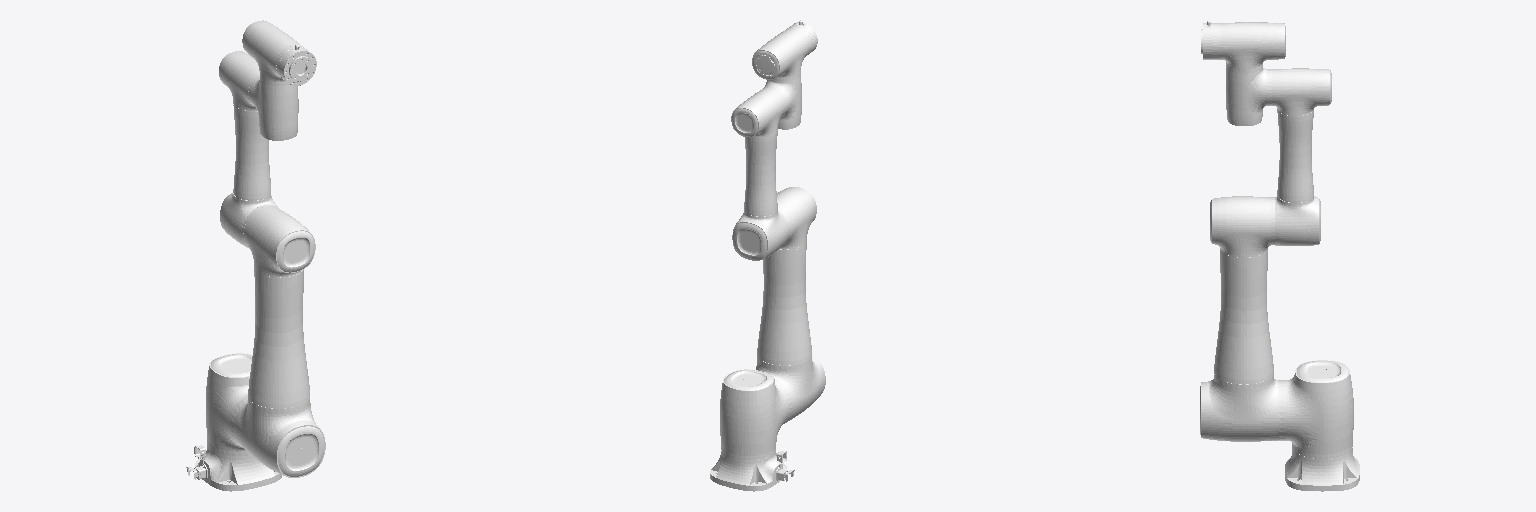
URDF robot description (cr16_robot):
<?xml version="1.0" encoding="utf-8"?>
<!-- This URDF was automatically created by SolidWorks to URDF Exporter! Originally created by [author] ([email redacted]) 
     Commit Version: 1.6.0-1-g15f4949  Build Version: 1.6.7594.29634
     For more information, please see http://wiki.ros.org/sw_urdf_exporter -->
<robot
  name="cr16_robot">
  <link name="dummy_link"/>
  <link
    name="base_link">
    <inertial>
      <origin
        xyz="-0.0017434 -4.7187E-06 0.032774"
        rpy="0 0 0" />
      <mass
        value="1.8265" />
      <inertia
        ixx="0.0041731"
        ixy="5.9313E-07"
        ixz="2.5199E-05"
        iyy="0.0043128"
        iyz="-5.4485E-07"
        izz="0.0067702" />
    </inertial>
    <visual>
      <origin
        xyz="0 0 0"
        rpy="0 0 0" />
      <geometry>
        <mesh
          filename="package://dobot_description/meshes/cr16/base_link.STL"  />
      </geometry>
      <material
        name="">
        <color
          rgba="1 1 1 1" />
      </material>
    </visual>
    <collision>
      <origin
        xyz="0 0 0"
        rpy="0 0 0" />
      <geometry>
        <mesh
          filename="package://dobot_description/meshes/cr16/base_link.STL"/>
      </geometry>
    </collision>
  </link>
     <joint name="dummy_joint" type="fixed">
      <parent link="dummy_link" />
      <child  link="base_link" />
    </joint>
  <link
    name="Link1">
    <inertial>
      <origin
        xyz="-1.6641E-06 -0.010819 0.0028389"
        rpy="0 0 0" />
      <mass
        value="4.1649" />
      <inertia
        ixx="0.020714"
        ixy="-1.9337E-07"
        ixz="1.6016E-07"
        iyy="0.018824"
        iyz="-9.6732E-05"
        izz="0.014575" />
    </inertial>
    <visual>
      <origin
        xyz="0 0 0"
        rpy="0 0 0" />
      <geometry>
        <mesh
          filename="package://dobot_description/meshes/cr16/Link1.STL" />
      </geometry>
      <material
        name="">
        <color
          rgba="1 1 1 1" />
      </material>
    </visual>
    <collision>
      <origin
        xyz="0 0 0"
        rpy="0 0 0" />
      <geometry>
        <mesh
          filename="package://dobot_description/meshes/cr16/Link1.STL" />
      </geometry>
    </collision>
  </link>
  <joint
    name="joint1"
    type="revolute">
    <origin
      xyz="0 0 0.1765"
      rpy="0 0 0" />
    <parent
      link="base_link" />
    <child
      link="Link1" />
    <axis
      xyz="0 0 1" />
    <limit
      lower="-3.14"
      upper="3.14"
      effort="0"
      velocity="0" />
  </joint>
  <link
    name="Link2">
    <inertial>
      <origin
        xyz="-0.20512 -3.1886E-08 0.19538"
        rpy="0 0 0" />
      <mass
        value="10.222" />
      <inertia
        ixx="0.031498"
        ixy="-8.7366E-08"
        ixz="-0.00021952"
        iyy="0.06945"
        iyz="-1.4472E-07"
        izz="0.062387" />
    </inertial>
    <visual>
      <origin
        xyz="0 0 0"
        rpy="0 0 0" />
      <geometry>
        <mesh
          filename="package://dobot_description/meshes/cr16/Link2.STL"  />
      </geometry>
      <material
        name="">
        <color
          rgba="1 1 1 1" />
      </material>
    </visual>
    <collision>
      <origin
        xyz="0 0 0"
        rpy="0 0 0" />
      <geometry>
        <mesh
          filename="package://dobot_description/meshes/cr16/Link2.STL" />
      </geometry>
    </collision>
  </link>
  <joint
    name="joint2"
    type="revolute">
    <origin
      xyz="0 0 0"
      rpy="1.5708 1.5708 0" />
    <parent
      link="Link1" />
    <child
      link="Link2" />
    <axis
      xyz="0 0 1" />
    <limit
      lower="-3.14"
      upper="3.14"
      effort="0"
      velocity="0" />
  </joint>
  <link
    name="Link3">
    <inertial>
      <origin
        xyz="-0.170200593728399 2.11088122753169E-07 0.0611734146139162"
        rpy="0 0 0" />
      <mass
        value="3.75359417381617" />
      <inertia
        ixx="0.00603810286245228"
        ixy="-6.36208384653473E-08"
        ixz="-5.72052164068317E-05"
        iyy="0.0119444184036258"
        iyz="6.47950646898604E-08"
        izz="0.0107481567947292" />
    </inertial>
    <visual>
      <origin
        xyz="0 0 0"
        rpy="0 0 0" />
      <geometry>
        <mesh
          filename="package://dobot_description/meshes/cr16/Link3.STL" />
      </geometry>
      <material
        name="">
        <color
          rgba="1 1 1 1" />
      </material>
    </visual>
    <collision>
      <origin
        xyz="0 0 0"
        rpy="0 0 0" />
      <geometry>
        <mesh
          filename="package://dobot_description/meshes/cr16/Link3.STL" />
      </geometry>
    </collision>
  </link>
  <joint
    name="joint3"
    type="revolute">
    <origin
      xyz="-0.512 0 0"
      rpy="0 0 0" />
    <parent
      link="Link2" />
    <child
      link="Link3" />
    <axis
      xyz="0 0 1" />
    <limit
      lower="-2.86"
      upper="2.86"
      effort="0"
      velocity="0" />
  </joint>
  <link
    name="Link4">
    <inertial>
      <origin
        xyz="-2.51136414011728E-07 0.00798725336224493 -0.00589074250591318"
        rpy="0 0 0" />
      <mass
        value="1.16884301529359" />
      <inertia
        ixx="0.00292614958206067"
        ixy="8.13393336360205E-09"
        ixz="-8.19039910228418E-09"
        iyy="0.00150053008994198"
        iyz="-5.44925430410846E-05"
        izz="0.00273274970331529" />
    </inertial>
    <visual>
      <origin
        xyz="0 0 0"
        rpy="0 0 0" />
      <geometry>
        <mesh
          filename="package://dobot_description/meshes/cr16/Link4.STL" />
      </geometry>
      <material
        name="">
        <color
          rgba="1 1 1 1" />
      </material>
    </visual>
    <collision>
      <origin
        xyz="0 0 0"
        rpy="0 0 0" />
      <geometry>
        <mesh
          filename="package://dobot_description/meshes/cr16/Link4.STL" />
      </geometry>
    </collision>
  </link>
  <joint
    name="joint4"
    type="revolute">
    <origin
      xyz="-0.363 0 0.191"
      rpy="0 0 -1.5708" />
    <parent
      link="Link3" />
    <child
      link="Link4" />
    <axis
      xyz="0 0 1" />
    <limit
      lower="-3.14"
      upper="3.14"
      effort="0"
      velocity="0" />
  </joint>
  <link
    name="Link5">
    <inertial>
      <origin
        xyz="5.95030917189652E-07 -0.0145467824834555 -0.00454892377987748"
        rpy="0 0 0" />
      <mass
        value="1.22302770181629" />
      <inertia
        ixx="0.00337903895296555"
        ixy="3.44280377037815E-08"
        ixz="-6.93979063565381E-09"
        iyy="0.001492552393115"
        iyz="8.41874314256677E-05"
        izz="0.00323298846154308" />
    </inertial>
    <visual>
      <origin
        xyz="0 0 0"
        rpy="0 0 0" />
      <geometry>
        <mesh
          filename="package://dobot_description/meshes/cr16/Link5.STL" />
      </geometry>
      <material
        name="">
        <color
          rgba="1 1 1 1" />
      </material>
    </visual>
    <collision>
      <origin
        xyz="0 0 0"
        rpy="0 0 0" />
      <geometry>
        <mesh
          filename="package://dobot_description/meshes/cr16/Link5.STL" />
      </geometry>
    </collision>
  </link>
  <joint
    name="joint5"
    type="revolute">
    <origin
      xyz="0 -0.125 0"
      rpy="1.5708 0 0" />
    <parent
      link="Link4" />
    <child
      link="Link5" />
    <axis
      xyz="0 0 1" />
    <limit
      lower="-3.14"
      upper="3.14"
      effort="0"
      velocity="0" />
  </joint>
  <link
    name="Link6">
    <inertial>
      <origin
        xyz="1.26507355792134E-07 2.29654719696715E-05 -0.0205297779952012"
        rpy="0 0 0" />
      <mass
        value="0.205439539605232" />
      <inertia
        ixx="0.000110115415603791"
        ixy="-2.45819491561588E-13"
        ixz="-2.41984454633386E-13"
        iyy="0.000110662465683831"
        iyz="3.68892612776179E-08"
        izz="0.000205184285911954" />
    </inertial>
    <visual>
      <origin
        xyz="0 0 0"
        rpy="0 0 0" />
      <geometry>
        <mesh
          filename="package://dobot_description/meshes/cr16/Link6.STL"/>
      </geometry>
      <material
        name="">
        <color
          rgba="1 1 1 1" />
      </material>
    </visual>
    <collision>
      <origin
        xyz="0 0 0"
        rpy="0 0 0" />
      <geometry>
        <mesh
          filename="package://dobot_description/meshes/cr16/Link6.STL" />
      </geometry>
    </collision>
  </link>
  <joint
    name="joint6"
    type="revolute">
    <origin
      xyz="0 0.1084 0"
      rpy="-1.5708 0 0" />
    <parent
      link="Link5" />
    <child
      link="Link6" />
    <axis
      xyz="0 0 1" />
    <limit
      lower="-6.28"
      upper="6.28"
      effort="0"
      velocity="0" />
  </joint>
</robot>

--- Render facts (derived) ---
Views: 3 orthographic renders of the robot side by side, from view 1: azimuth 30°, elevation 25°; view 2: azimuth 150°, elevation 25°; view 3: azimuth 270°, elevation 25°.
Robot: cr16_robot — 8 links, 7 joints (6 revolute, 1 fixed); root link dummy_link; default pose: all joints at 0.
Links seen in each view (by area): view 1: Link2, Link3, Link1, base_link, Link4, Link5, Link6; view 2: Link2, Link3, Link1, base_link, Link5, Link4; view 3: Link2, Link3, Link1, Link5, base_link, Link4, Link6.
Boxes of the visible links, bbox=[...] form: Link2: bbox=[233, 205, 325, 477]; Link3: bbox=[219, 51, 277, 247]; Link1: bbox=[206, 353, 252, 455]; base_link: bbox=[186, 445, 281, 491]; Link4: bbox=[248, 75, 298, 140]; Link5: bbox=[242, 20, 302, 81]; Link6: bbox=[276, 45, 316, 85]; Link2: bbox=[756, 187, 825, 422]; Link3: bbox=[731, 87, 789, 260]; Link1: bbox=[720, 369, 791, 459]; base_link: bbox=[710, 450, 794, 491]; Link5: bbox=[752, 27, 810, 79]; Link4: bbox=[764, 73, 801, 129]; Link2: bbox=[1200, 196, 1280, 441]; Link3: bbox=[1272, 68, 1331, 245]; Link1: bbox=[1281, 360, 1353, 458]; Link5: bbox=[1218, 22, 1285, 69]; base_link: bbox=[1285, 447, 1359, 491]; Link4: bbox=[1226, 63, 1271, 125]; Link6: bbox=[1201, 21, 1217, 59].
Size in the robot's own frame: 0.2318 by 0.395 by 1.23 metres.
Meshes: 7 distinct files referenced, 7 mesh visuals loaded (7 binary STL).